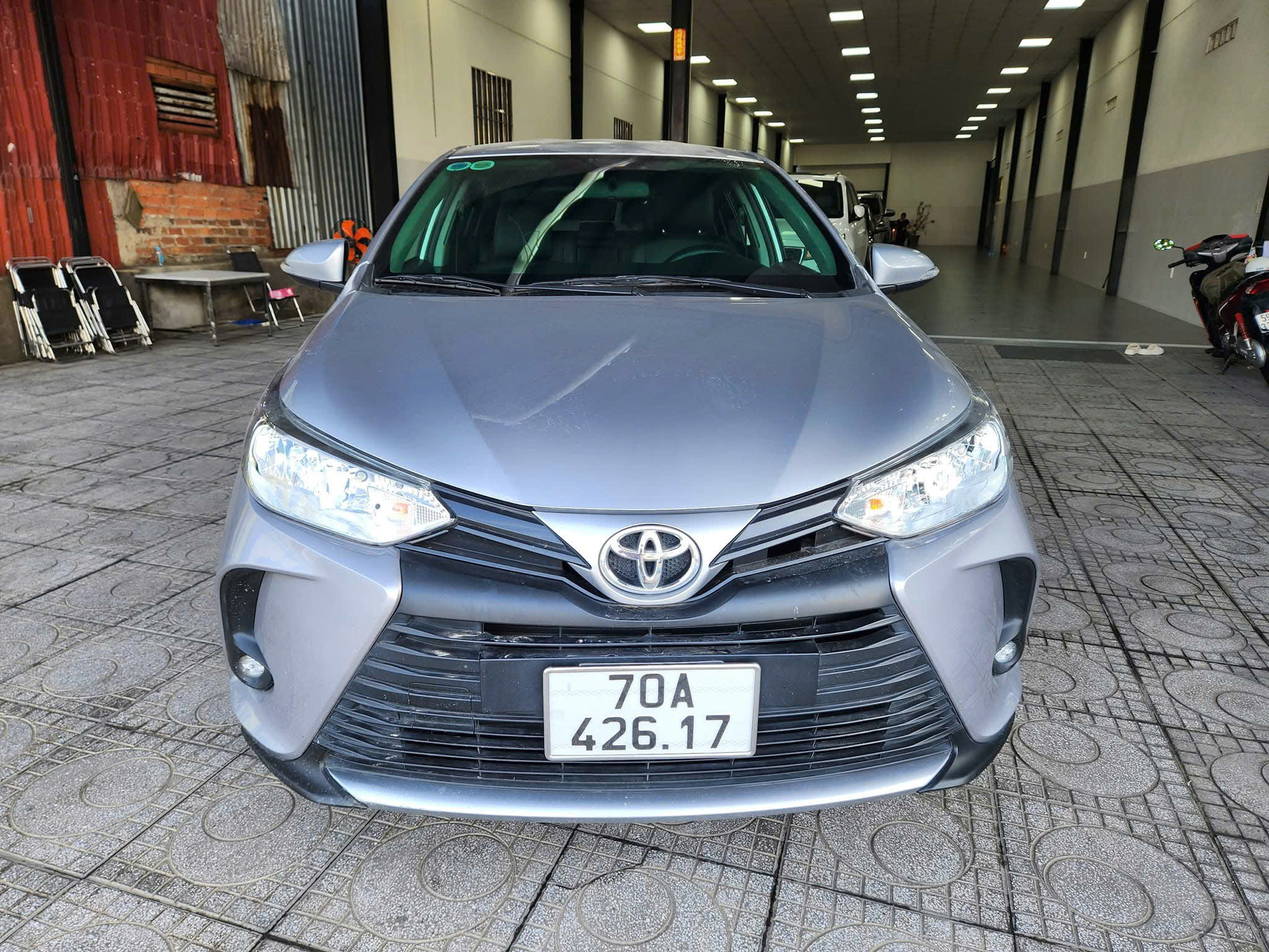Bien-so: (547, 668, 758, 763)
